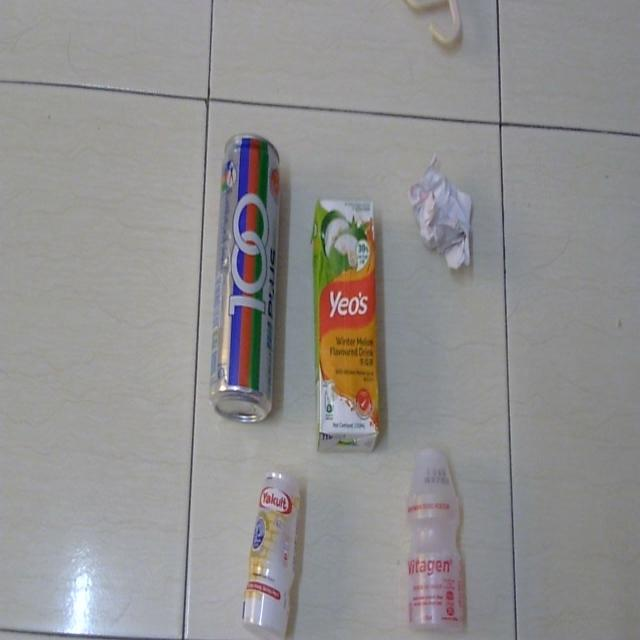metal_laydown_90rotation: (210, 123, 284, 430)
paperrotation: (408, 150, 480, 280)
plastic_laydown_90rotation: (306, 189, 386, 458), (402, 439, 471, 636), (238, 465, 308, 638)
